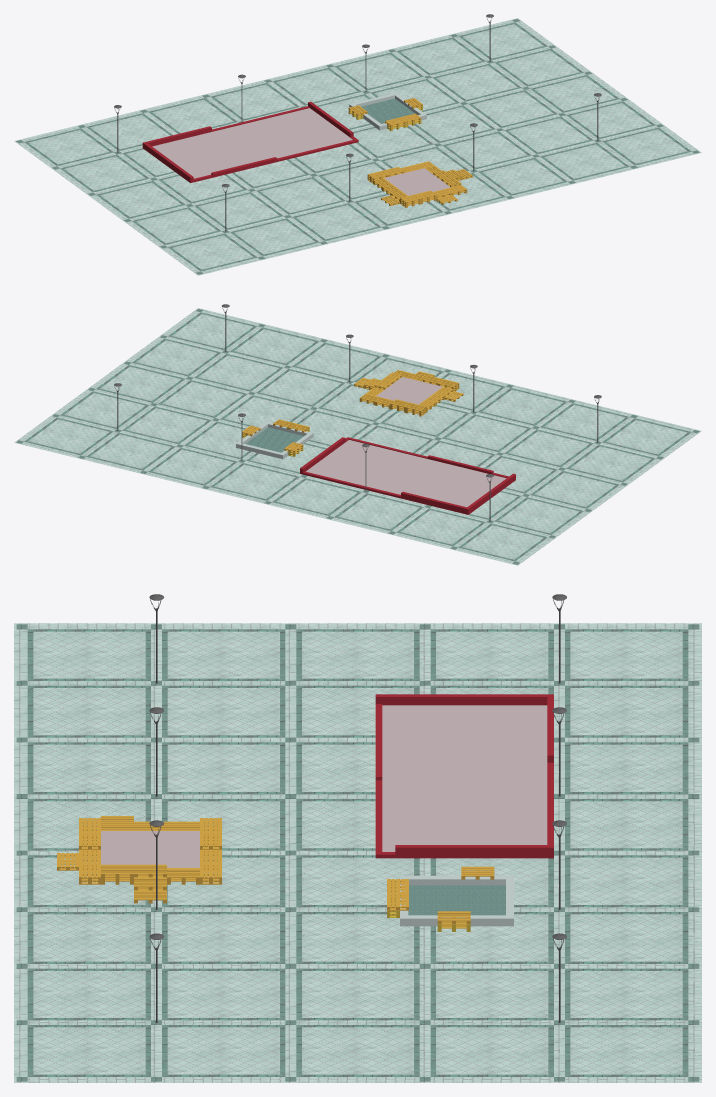
3 views of the same model, one above another, from view 1: azimuth 30°, elevation 25°; view 2: azimuth 150°, elevation 25°; view 3: azimuth 270°, elevation 25° (orthographic). The views are drawn at different scales.
Parts seen in each view (by area): view 1: square 1 component (×38), object 1396, object 55, object 37, object 54, object 53; view 2: square 1 component (×38), object 1396, object 55, object 37, object 53, object 54; view 3: square 1 component (×38), object 1396, object 55, object 37, object 54, object 53.
Boxes of the visible parts, x1=… form: square 1 component (×38): x1=16, y1=22, x2=691, y2=271; object 1396: x1=14, y1=18, x2=701, y2=275; object 55: x1=152, y1=108, x2=352, y2=178; object 37: x1=384, y1=168, x2=450, y2=195; object 54: x1=361, y1=98, x2=414, y2=123; object 53: x1=349, y1=93, x2=426, y2=130; square 1 component (×38): x1=24, y1=312, x2=691, y2=564; object 1396: x1=14, y1=308, x2=701, y2=565; object 55: x1=306, y1=440, x2=506, y2=507; object 37: x1=376, y1=377, x2=442, y2=404; object 53: x1=236, y1=421, x2=313, y2=459; object 54: x1=245, y1=427, x2=303, y2=452; square 1 component (×38): x1=27, y1=624, x2=699, y2=1076; object 1396: x1=14, y1=623, x2=701, y2=1082; object 55: x1=382, y1=705, x2=547, y2=851; object 37: x1=101, y1=831, x2=199, y2=867; object 54: x1=408, y1=885, x2=505, y2=915; object 53: x1=400, y1=875, x2=513, y2=926.
Bounding box in the file's own units: 1.8 × 0.1598 × 1.14.
Materials: 12 (4 with a texture image).
